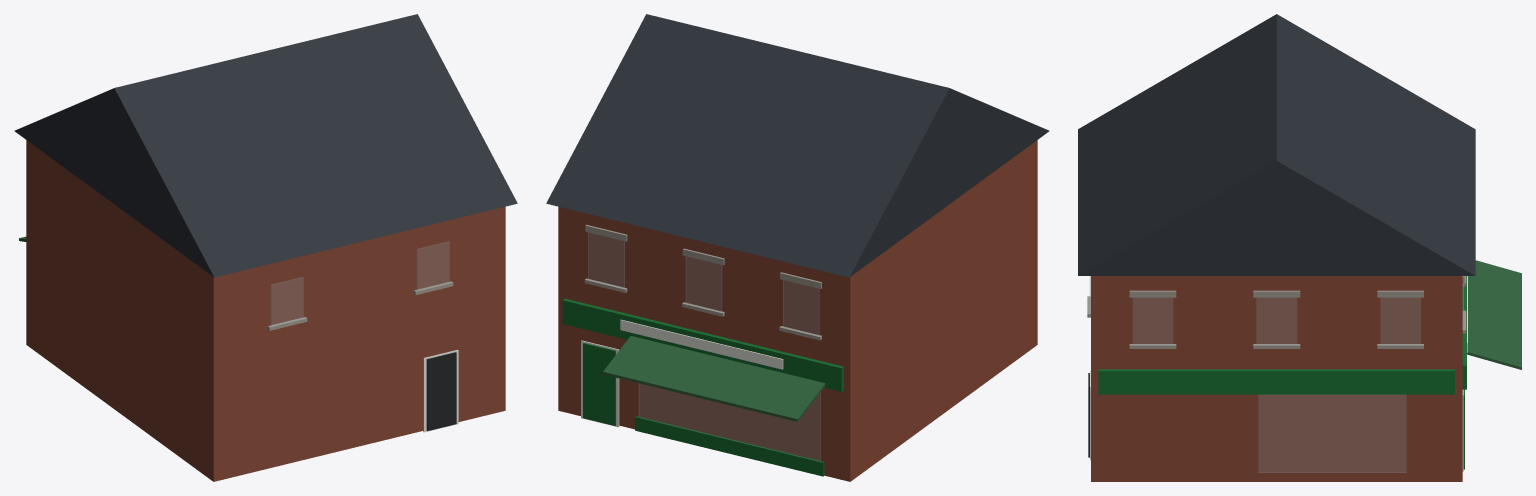
File: context.type.corner_shop.glb
The picture shows the model from 3 angles, left to right: view 1: azimuth 30°, elevation 25°; view 2: azimuth 150°, elevation 25°; view 3: azimuth 270°, elevation 25°; orthographic projection.
Visible parts, largest first — view 1: walls__brick, roof__slate, openings__glass, openings__steel_dark, openings__paint_white; view 2: roof__slate, walls__brick, openings__glass, openings__plastic_green, roof__fabric_green, openings__paint_white, openings__paving; view 3: roof__slate, walls__brick, openings__glass, openings__plastic_green, roof__fabric_green, openings__paving.
Part boxes in pixels (<box>): walls__brick: <box>26,140,505,481</box>; roof__slate: <box>14,14,517,277</box>; openings__glass: <box>270,241,449,325</box>; openings__steel_dark: <box>426,352,456,430</box>; openings__paint_white: <box>423,350,458,432</box>; roof__slate: <box>546,14,1049,277</box>; walls__brick: <box>558,140,1037,481</box>; openings__glass: <box>588,233,820,461</box>; openings__plastic_green: <box>562,298,843,476</box>; roof__fabric_green: <box>603,336,825,421</box>; openings__paint_white: <box>581,319,783,427</box>; openings__paving: <box>584,224,821,340</box>; roof__slate: <box>1078,14,1475,275</box>; walls__brick: <box>1091,276,1462,481</box>; openings__glass: <box>1090,276,1463,472</box>; openings__plastic_green: <box>1098,276,1466,469</box>; roof__fabric_green: <box>1467,260,1521,369</box>; openings__paving: <box>1087,276,1466,348</box>.
Bounding box in the file's own units: 9.35 × 9.66 × 11.95.
